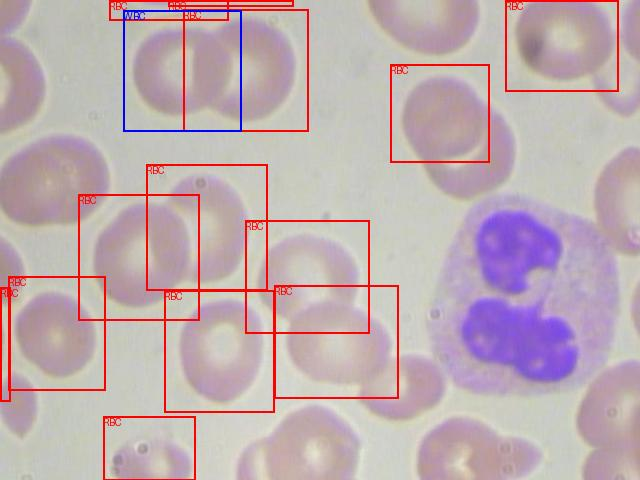RBC: (183, 9, 308, 131), (78, 194, 199, 320), (146, 164, 267, 290), (245, 220, 369, 333), (274, 285, 398, 398), (164, 290, 274, 412), (8, 276, 105, 390), (505, 0, 618, 91), (390, 64, 489, 162), (103, 416, 195, 480), (109, 0, 228, 20), (0, 287, 10, 401), (168, 0, 293, 6)
WBC: (123, 10, 241, 131)
